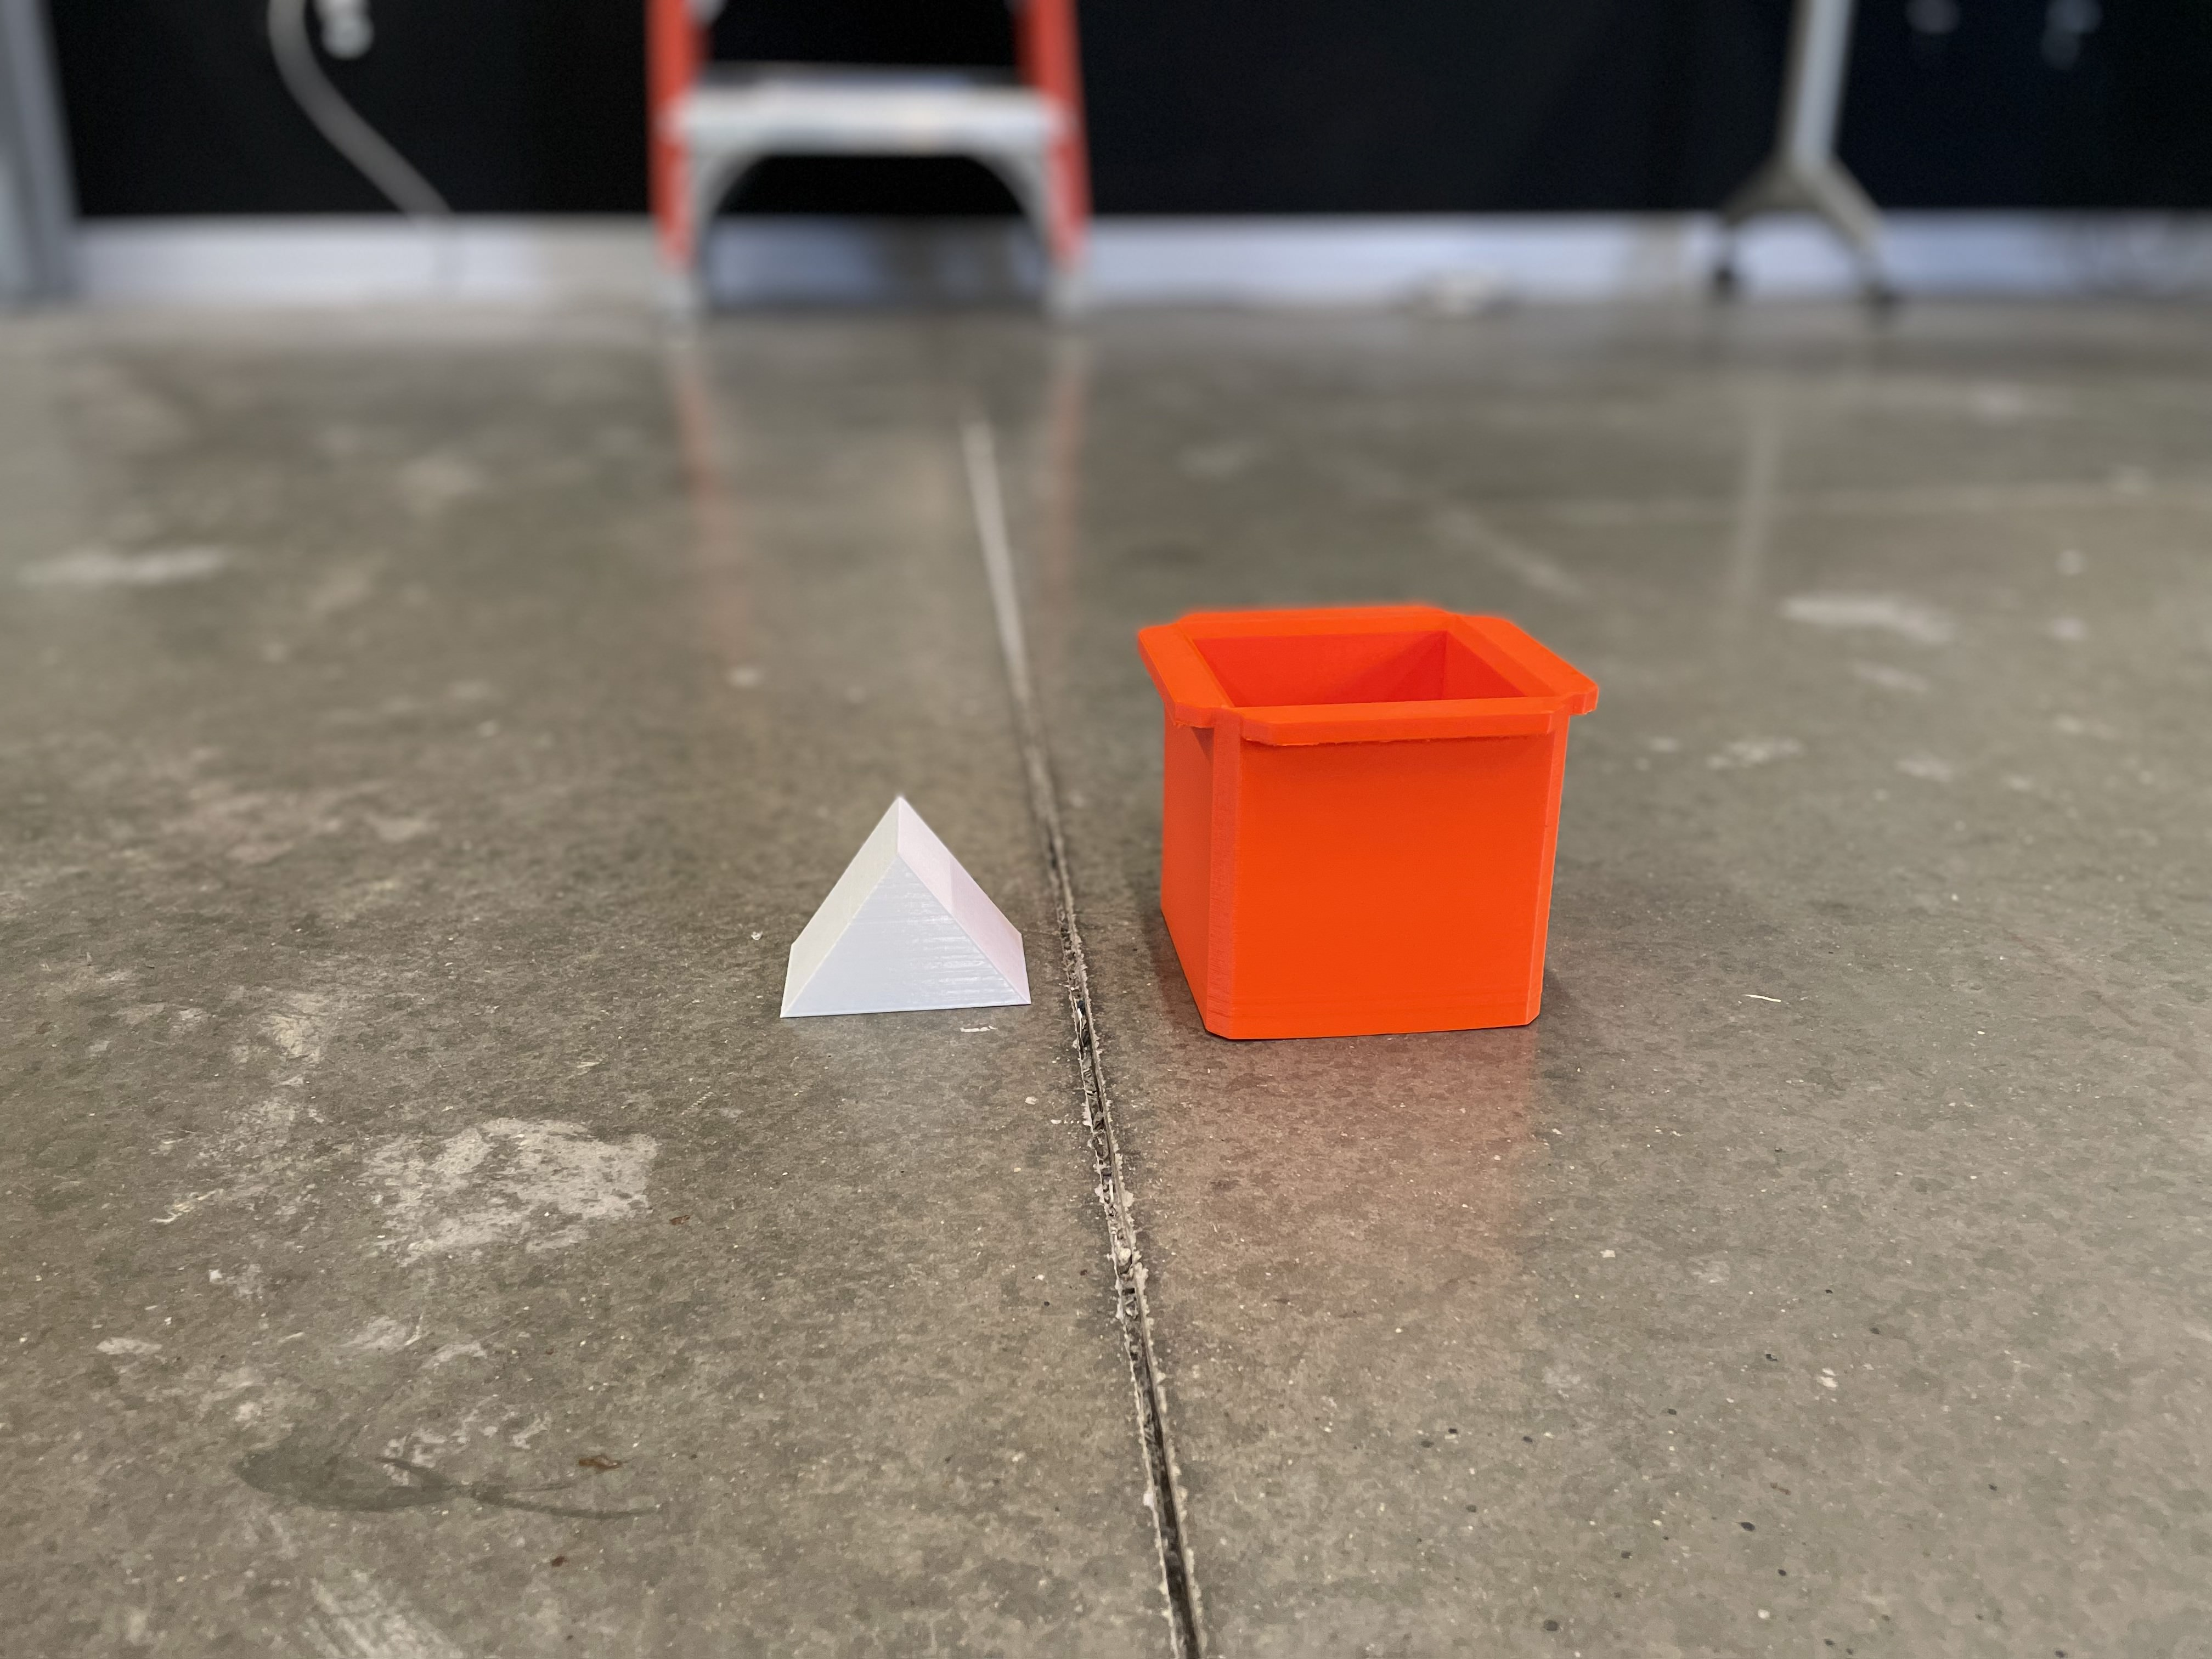payload1: (1125, 598, 1618, 1047)
payload2: (752, 760, 1066, 1044)
